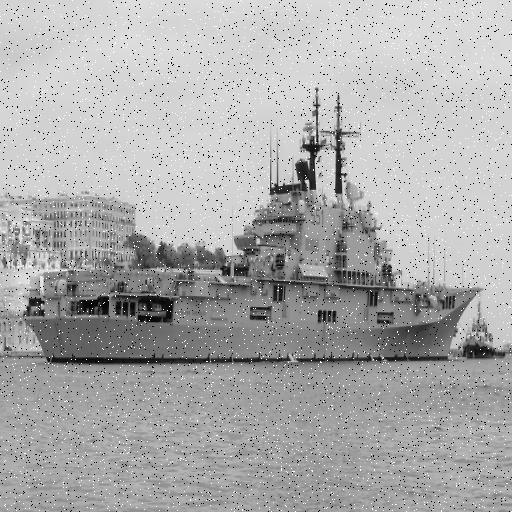Portanaves: (19, 80, 489, 366)
